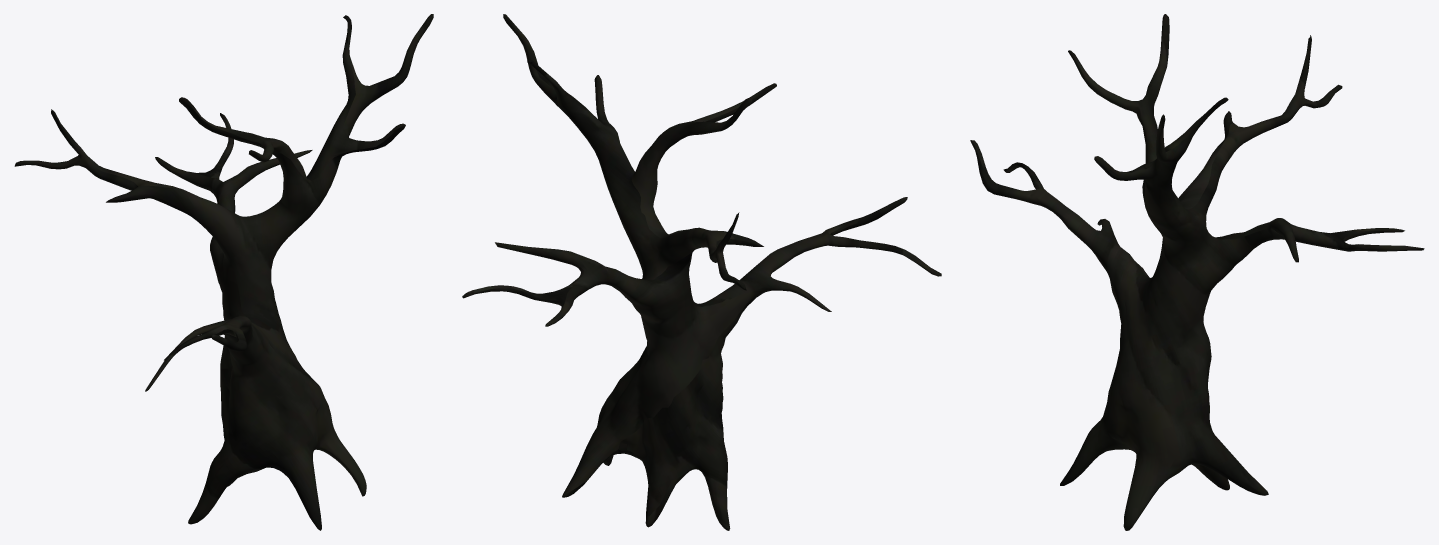
The picture shows the model from 3 angles, left to right: view 1: azimuth 30°, elevation 25°; view 2: azimuth 150°, elevation 25°; view 3: azimuth 270°, elevation 25°; orthographic projection. The views are drawn at different scales.
Parts seen in each view (by area): view 1: SM_SwampTreeStump_03_LOD0; view 2: SM_SwampTreeStump_03_LOD0; view 3: SM_SwampTreeStump_03_LOD0.
Boxes of the visible parts, x1,y1,x2,y2 form: SM_SwampTreeStump_03_LOD0: (14, 14, 433, 530); SM_SwampTreeStump_03_LOD0: (462, 14, 941, 530); SM_SwampTreeStump_03_LOD0: (970, 14, 1424, 530).
Bounding box in the file's own units: 17.39 × 20.86 × 18.24.
Materials: 1 (1 with a texture image).
